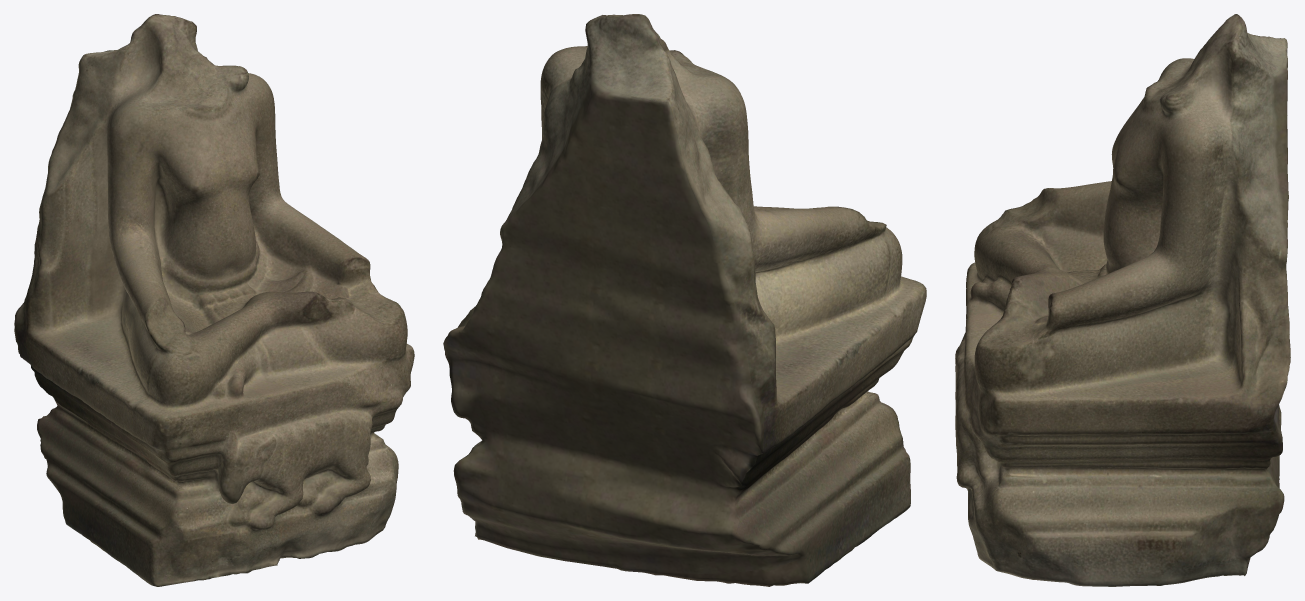
Rendered from 14_thanphuonghuong_agni.glb.
3 views of the same model, side by side, from view 1: azimuth 30°, elevation 25°; view 2: azimuth 150°, elevation 25°; view 3: azimuth 270°, elevation 25° (orthographic). The views are drawn at different scales.
Visible parts, largest first — view 1: remesh; view 2: remesh; view 3: remesh.
Boxes of the visible parts, box(x1,y1,x2,y2) form: remesh: box(14, 14, 414, 586); remesh: box(443, 14, 926, 586); remesh: box(955, 14, 1290, 586).
Size of the model in its own units: 0.329 by 0.534 by 0.3291.
1 material, 1 textured.
